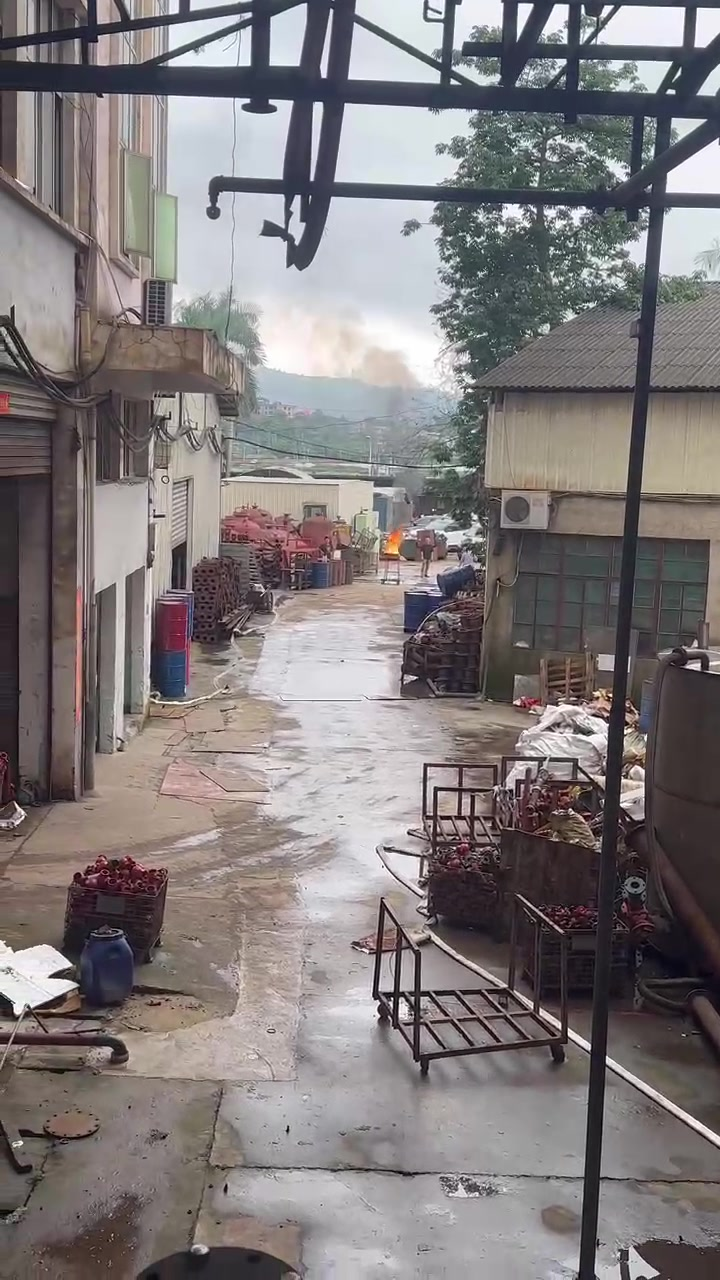fire: (384, 530, 399, 553)
